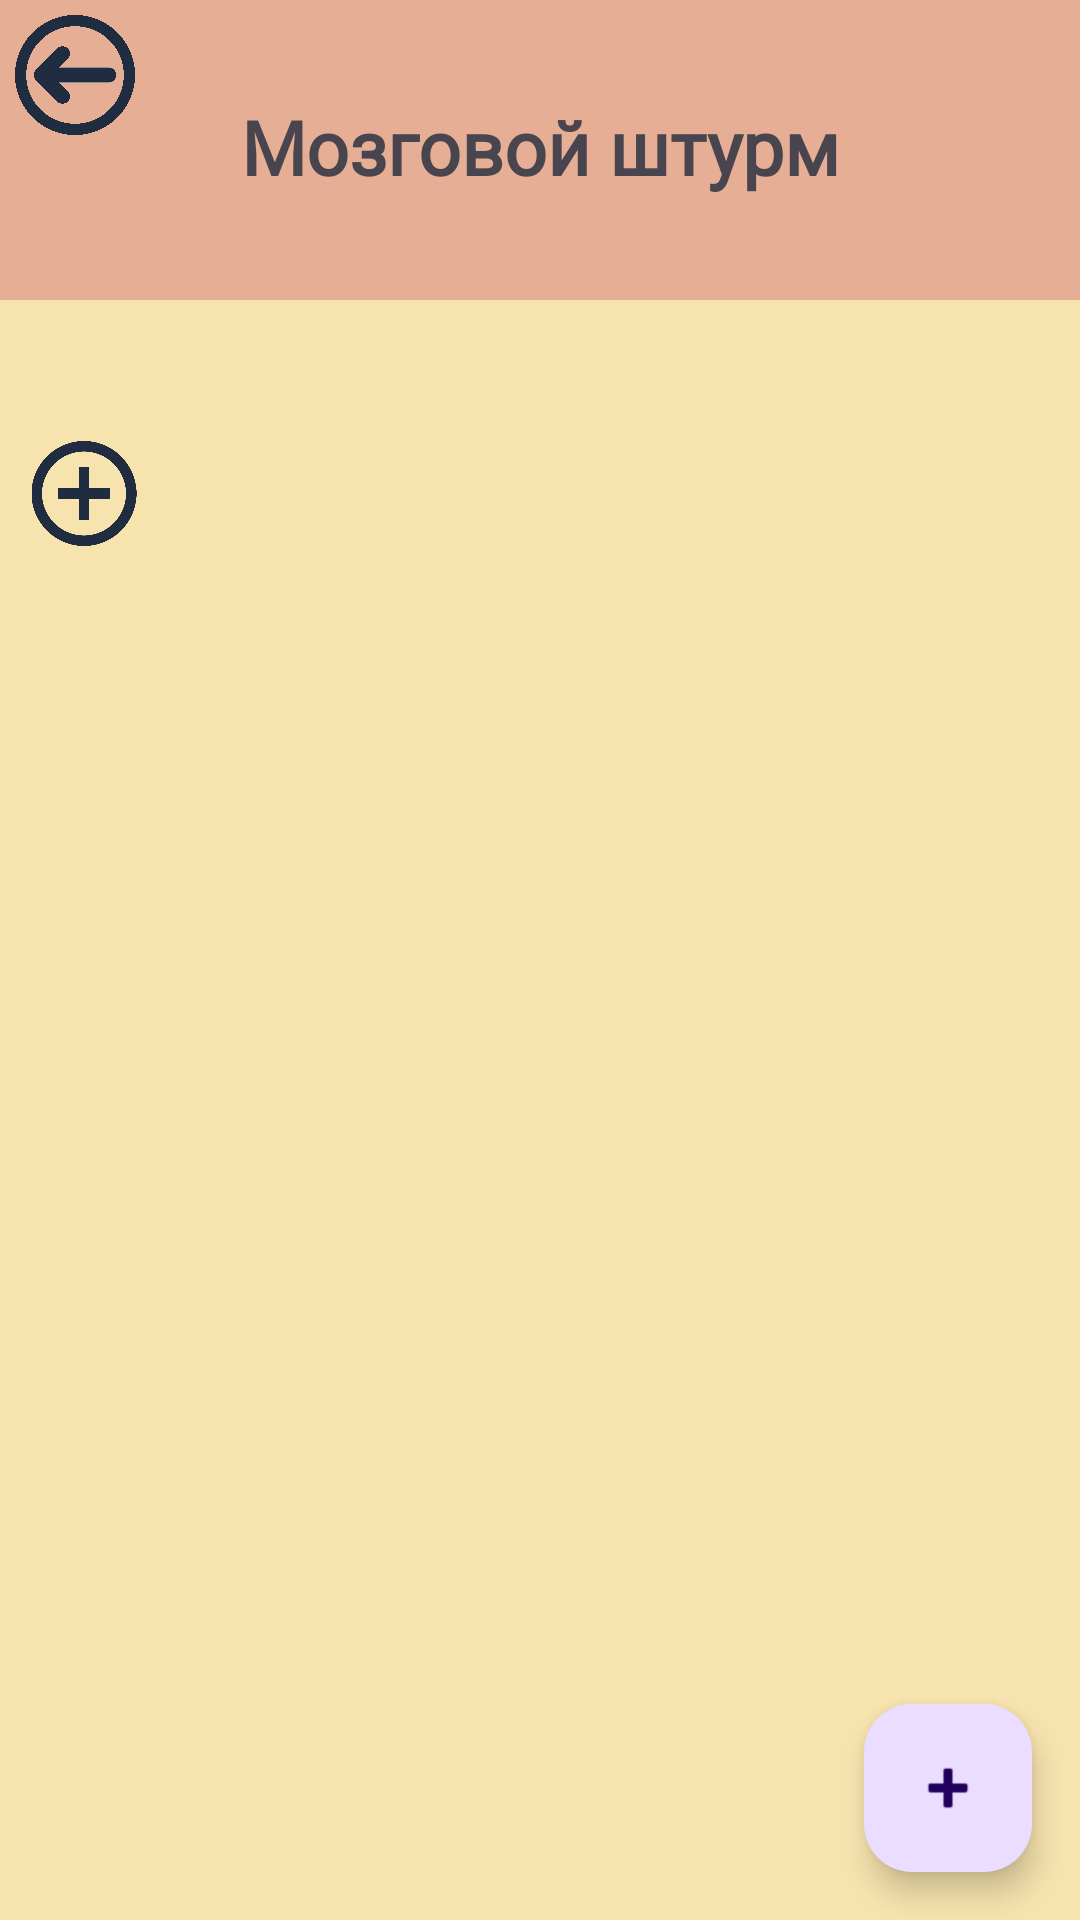

Screen size 1080x1920. Icon name, then its center in pixels as (x=x, y=y):
add: (x=948, y=1788)
addbutton: (x=84, y=493)
backbutton: (x=75, y=75)
